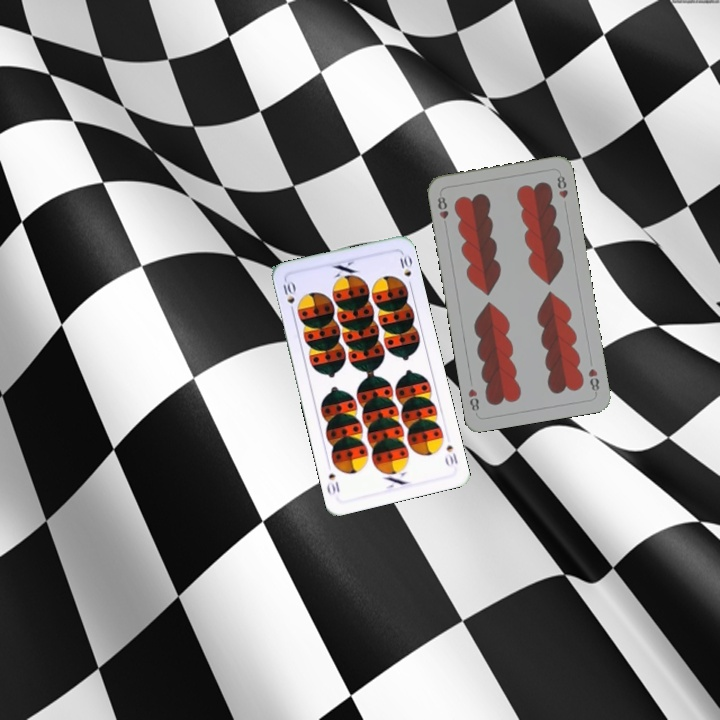H8: (434, 192, 451, 230), (584, 364, 602, 396)
S10: (279, 276, 297, 317), (441, 441, 460, 469)
